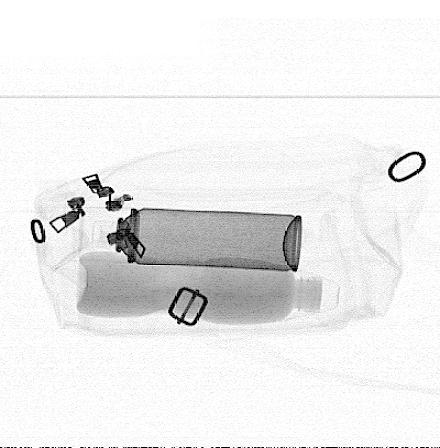Sprayer: (76, 206, 304, 273)
